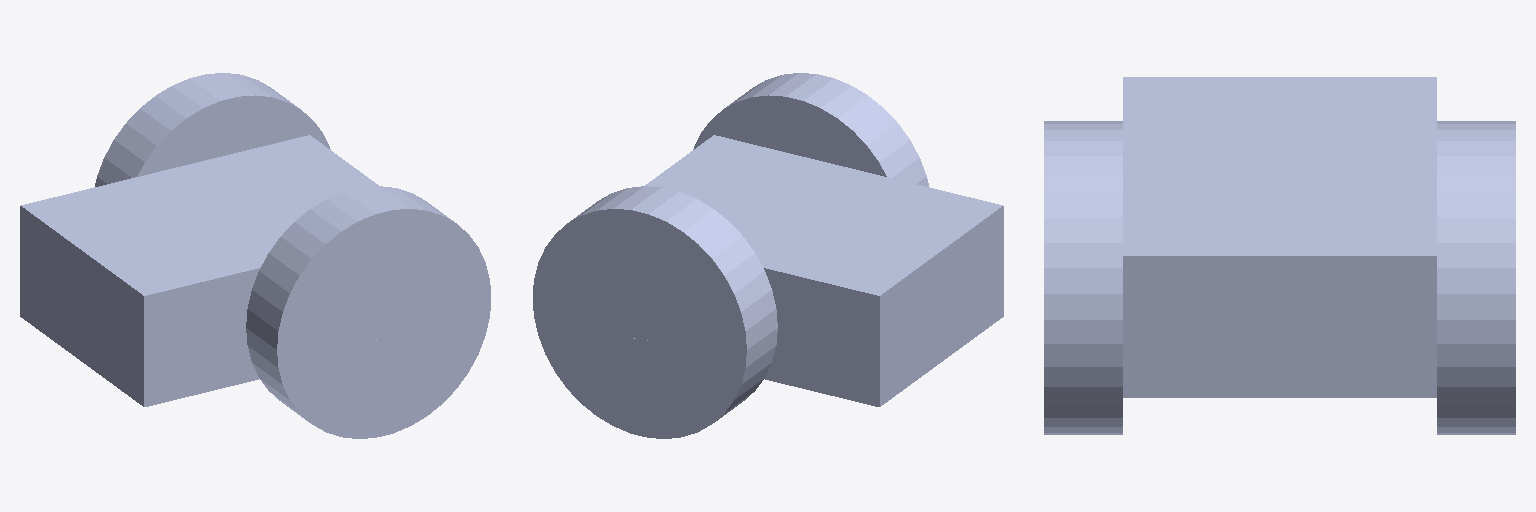
The robot description file, URDF, robot "samnple5":
<?xml version="1.0" encoding="utf-8"?>
<!-- This URDF was automatically created by SolidWorks to URDF Exporter! Originally created by [author] ([email redacted]) 
     Commit Version: 1.6.0-4-g7f85cfe  Build Version: 1.6.7995.38578
     For more information, please see http://wiki.ros.org/sw_urdf_exporter -->
<robot
  name="samnple5">
  <link
    name="base_link">
    <inertial>
      <origin
        xyz="-0.0171776527088287 -0.065 0.000609083707823714"
        rpy="0 0 0" />
      <mass
        value="0.0435741374432618" />
      <inertia
        ixx="7.49906259217302E-06"
        ixy="1.42601771985693E-21"
        ixz="-9.49724979969621E-10"
        iyy="1.16663648857277E-05"
        iyz="4.98511806611715E-22"
        izz="1.63525589560706E-05" />
    </inertial>
    <visual>
      <origin
        xyz="0 0 0"
        rpy="0 0 0" />
      <geometry>
        <mesh
          filename="package://samnple5/meshes/base_link.STL" />
      </geometry>
      <material
        name="">
        <color
          rgba="0.792156862745098 0.819607843137255 0.933333333333333 1" />
      </material>
    </visual>
    <collision>
      <origin
        xyz="0 0 0"
        rpy="0 0 0" />
      <geometry>
        <mesh
          filename="package://samnple5/meshes/base_link.STL" />
      </geometry>
    </collision>
  </link>
  <link
    name="right_wheel">
    <inertial>
      <origin
        xyz="0 0 -0.005"
        rpy="0 0 0" />
      <mass
        value="0.012284" />
      <inertia
        ixx="1.3584E-06"
        ixy="1.3035E-38"
        ixz="1.7095E-23"
        iyy="1.3584E-06"
        iyz="1.0196E-53"
        izz="2.512E-06" />
    </inertial>
    <visual>
      <origin
        xyz="0 0 0"
        rpy="0 0 0" />
      <geometry>
        <mesh
          filename="package://samnple5/meshes/right_wheel.STL" />
      </geometry>
      <material
        name="">
        <color
          rgba="0.79216 0.81961 0.93333 1" />
      </material>
    </visual>
    <collision>
      <origin
        xyz="0 0 0"
        rpy="0 0 0" />
      <geometry>
        <mesh
          filename="package://samnple5/meshes/right_wheel.STL" />
      </geometry>
    </collision>
  </link>
  <joint
    name="right_wheel_joint"
    type="continuous">
    <origin
      xyz="-0.0053954 -0.045 0.00052896"
      rpy="1.5708 0 0" />
    <parent
      link="base_link" />
    <child
      link="right_wheel" />
    <axis
      xyz="0 0 1" />
  </joint>
  <link
    name="left_wheel">
    <inertial>
      <origin
        xyz="0 -1.7347E-18 0.005"
        rpy="0 0 0" />
      <mass
        value="0.012284" />
      <inertia
        ixx="1.3584E-06"
        ixy="4.8592E-42"
        ixz="1.7095E-23"
        iyy="1.3584E-06"
        iyz="-2.4831E-39"
        izz="2.512E-06" />
    </inertial>
    <visual>
      <origin
        xyz="0 0 0"
        rpy="0 0 0" />
      <geometry>
        <mesh
          filename="package://samnple5/meshes/left_wheel.STL" />
      </geometry>
      <material
        name="">
        <color
          rgba="0.79216 0.81961 0.93333 1" />
      </material>
    </visual>
    <collision>
      <origin
        xyz="0 0 0"
        rpy="0 0 0" />
      <geometry>
        <mesh
          filename="package://samnple5/meshes/left_wheel.STL" />
      </geometry>
    </collision>
  </link>
  <joint
    name="left_wheel_joint"
    type="continuous">
    <origin
      xyz="-0.0053954 -0.085 0.00052896"
      rpy="1.5708 0 0" />
    <parent
      link="base_link" />
    <child
      link="left_wheel" />
    <axis
      xyz="0 0 1" />
  </joint>
</robot>

--- What the picture shows (computed from the rendered views, not written in the file) ---
The picture shows the robot from 3 angles, left to right: view 1: azimuth 30°, elevation 25°; view 2: azimuth 150°, elevation 25°; view 3: azimuth 270°, elevation 25°; orthographic projection.
Model samnple5 with 3 links and 2 joints (2 continuous), rooted at base_link, posed every joint at zero.
Links seen in each view (by area): view 1: base_link, left_wheel, right_wheel; view 2: base_link, right_wheel, left_wheel; view 3: base_link, right_wheel, left_wheel.
Link boxes in pixels (<box>): base_link: <box>20,135,399,406</box>; left_wheel: <box>246,186,490,438</box>; right_wheel: <box>95,73,330,186</box>; base_link: <box>624,135,1003,406</box>; right_wheel: <box>533,186,777,438</box>; left_wheel: <box>693,73,928,186</box>; base_link: <box>1123,77,1436,397</box>; right_wheel: <box>1437,121,1515,434</box>; left_wheel: <box>1044,121,1122,434</box>.
Size in the robot's own frame: 0.059 by 0.06 by 0.0399 metres.
Meshes: 3 distinct files referenced, 3 mesh visuals loaded (3 binary STL).